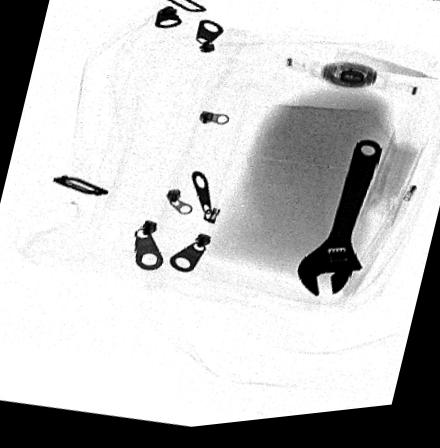Wrench: (293, 143, 383, 308)
